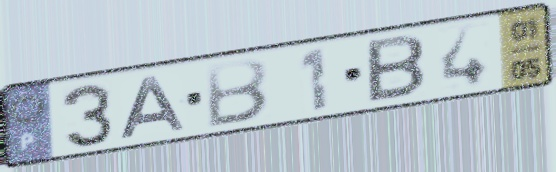1: (298, 45, 333, 112)
3: (58, 81, 115, 149)
4: (439, 22, 494, 91)
A: (117, 73, 191, 142)
B: (204, 56, 272, 130), (364, 32, 428, 106)
